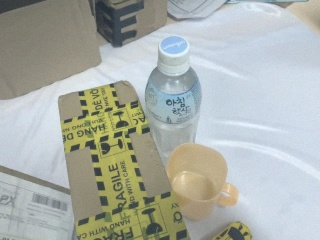bottle: (144, 36, 202, 167)
box: (51, 81, 187, 240), (93, 1, 167, 46)
cup: (165, 143, 239, 222)
toy_car: (204, 220, 259, 240)
